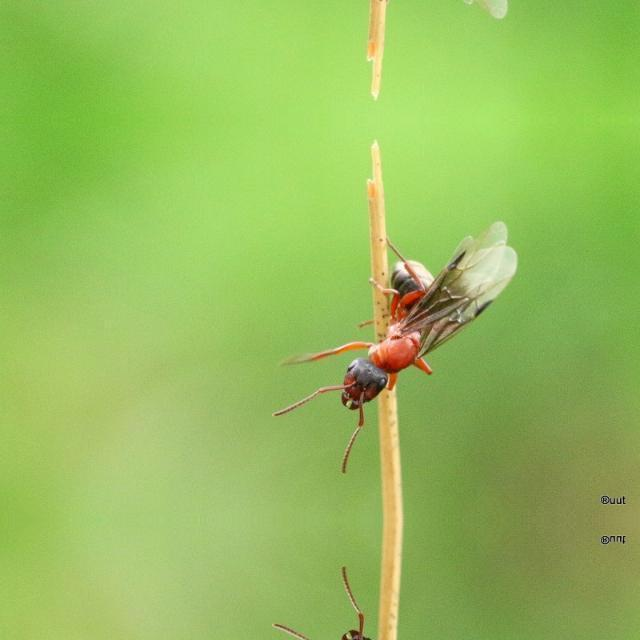Formica: (285, 235, 517, 441)
